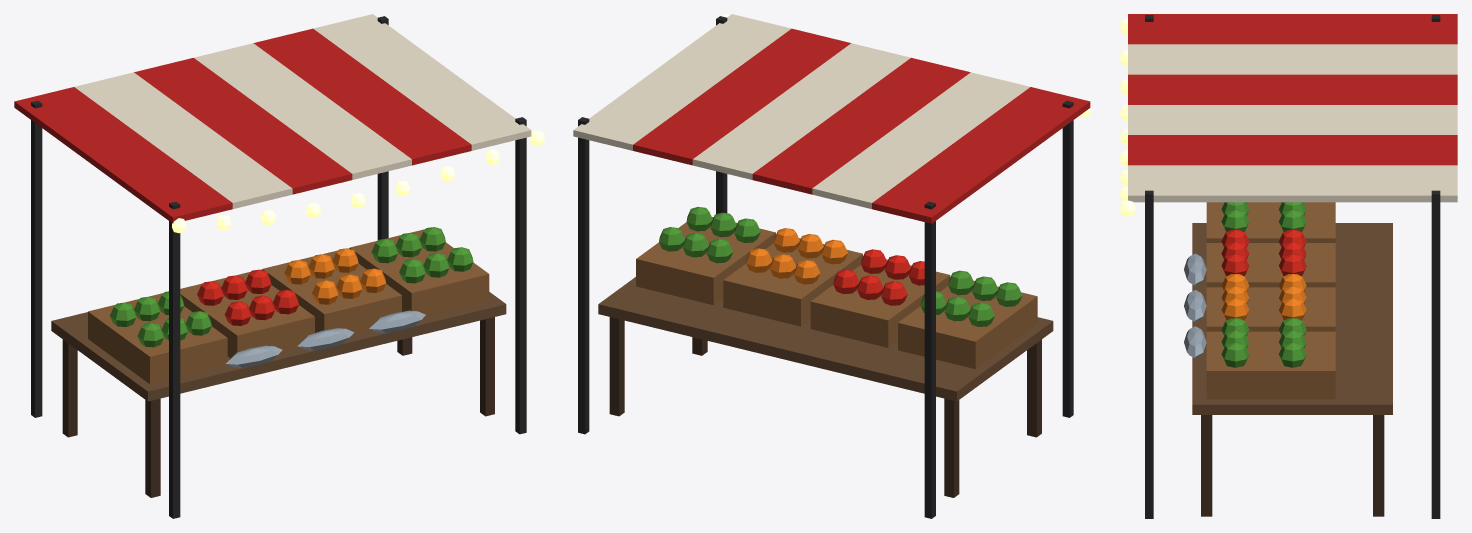
The model's file is market_stall.glb.
3 renders of one model, left to right at view 1: azimuth 30°, elevation 25°; view 2: azimuth 150°, elevation 25°; view 3: azimuth 270°, elevation 25°, orthographic. The views are drawn at different scales.
Parts seen in each view (by area): view 1: market_stall; view 2: market_stall; view 3: market_stall.
Boxes of the visible parts, box(x1,y1,x2,y2) form: market_stall: box(14, 14, 544, 518); market_stall: box(573, 14, 1091, 518); market_stall: box(1120, 14, 1457, 518).
Bounding box in the file's own units: 3.12 × 2.5 × 2.35.
